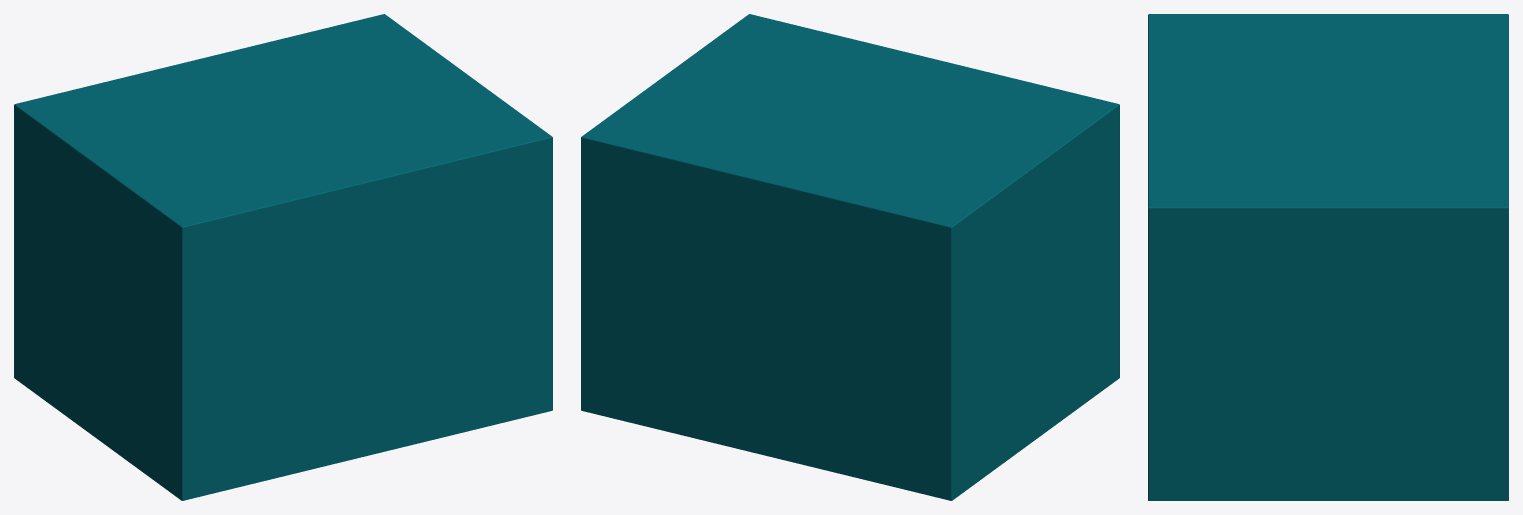
Rendered from stand.gltf.
3 views of the same model, side by side, from view 1: azimuth 30°, elevation 25°; view 2: azimuth 150°, elevation 25°; view 3: azimuth 270°, elevation 25° (orthographic). The views are drawn at different scales.
Parts seen in each view (by area): view 1: stand; view 2: stand; view 3: stand.
Part boxes in pixels (x1=…): stand: x1=14, y1=14, x2=552, y2=500; stand: x1=581, y1=14, x2=1119, y2=500; stand: x1=1148, y1=14, x2=1508, y2=500.
Bounding box in the file's own units: 0.4262 × 0.3007 × 0.3351.
